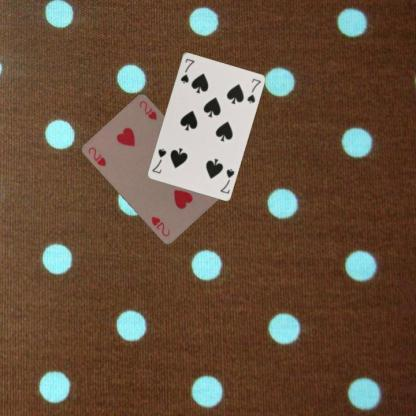2h: (85, 144, 107, 168)
7s: (217, 166, 236, 195), (178, 56, 196, 84)
